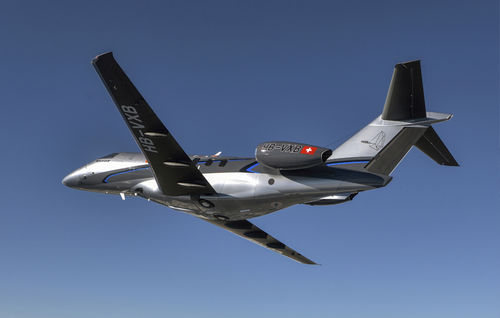Aeronef_commercial: (52, 32, 466, 270)
